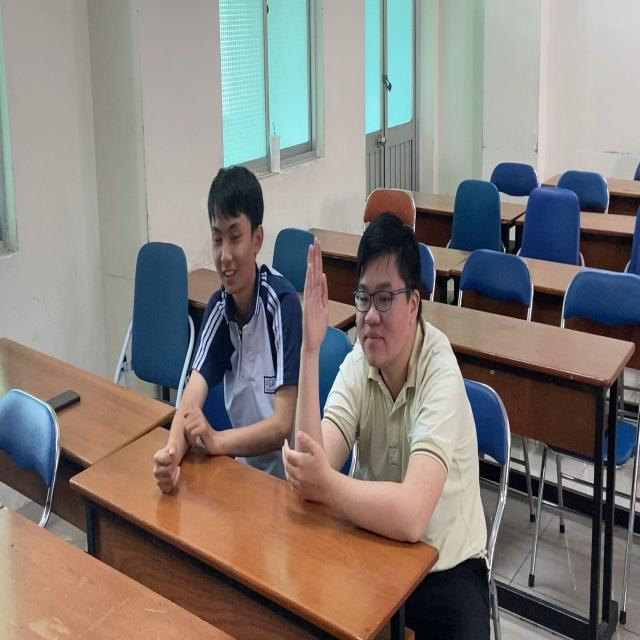raise_hand: (292, 217, 462, 571)
